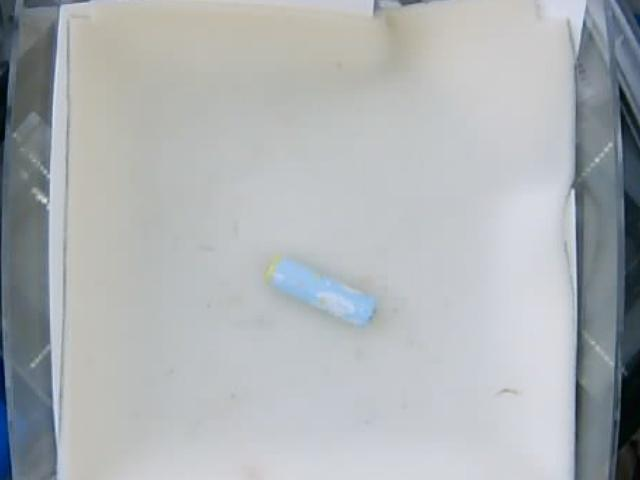Battery: (268, 256, 377, 327)
